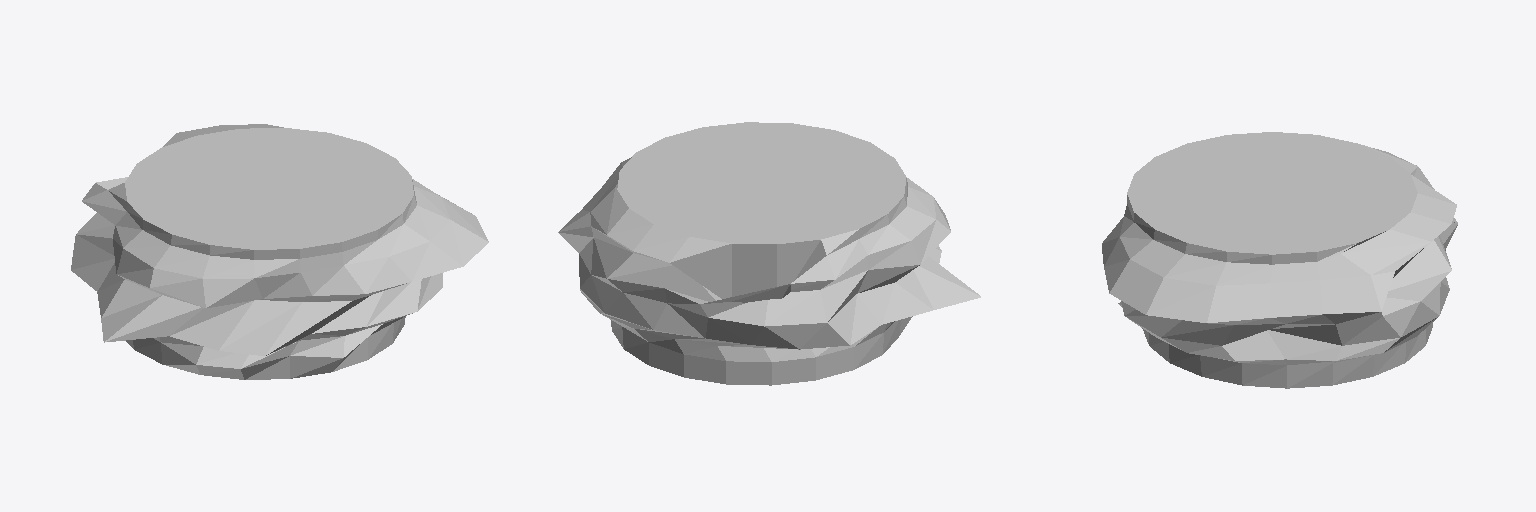
File: redbullCrushed3.obj
The picture shows the model from 3 angles: view 1: azimuth 30°, elevation 25°; view 2: azimuth 150°, elevation 25°; view 3: azimuth 270°, elevation 25°; orthographic projection.
Visible parts, largest first — view 1: pCylinder1; view 2: pCylinder1; view 3: pCylinder1.
Part boxes in pixels (x1,y1,x2,y2): pCylinder1: (71,124,488,379); pCylinder1: (558,122,980,385); pCylinder1: (1102,132,1457,388).
Bounding box in the file's own units: 1.89 × 0.664 × 1.59.